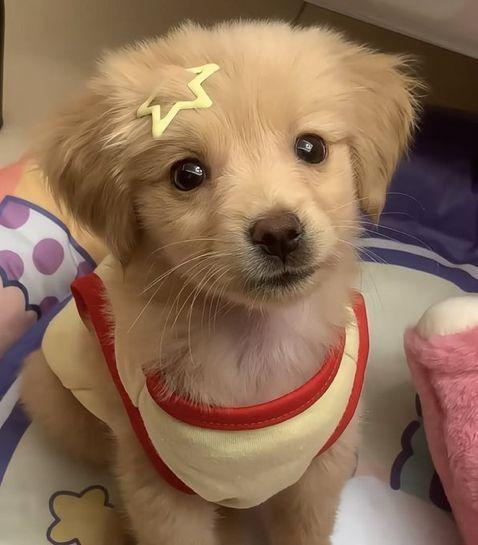puppy-dog: (17, 18, 424, 545)
